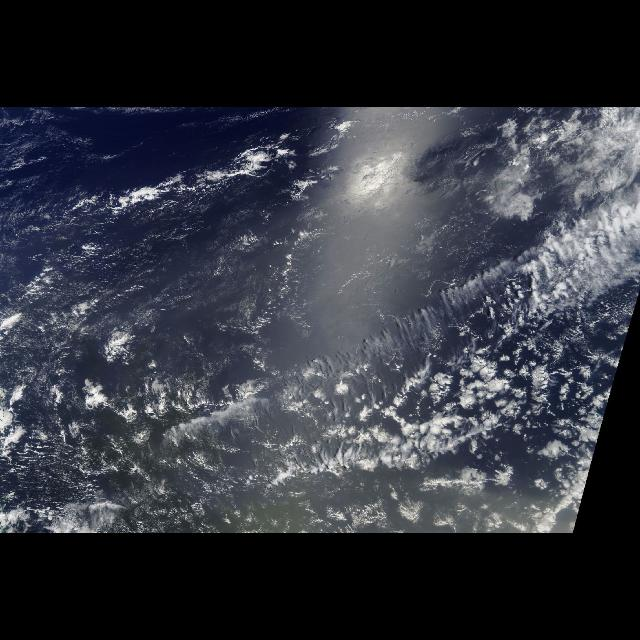Fish: (75, 203, 640, 492)
Flower: (337, 343, 598, 514)
Sugar: (21, 124, 237, 332)
